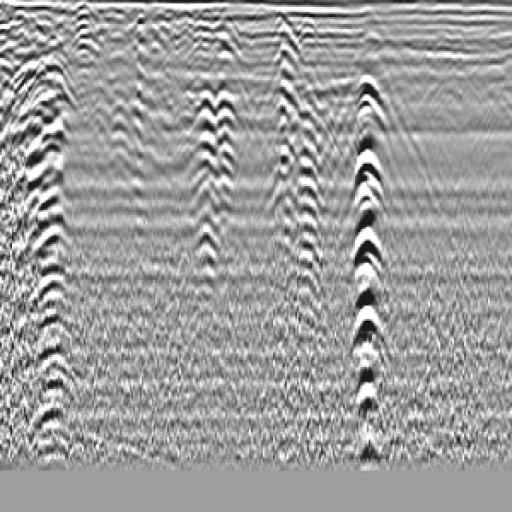metalic: (106, 19, 178, 220)
